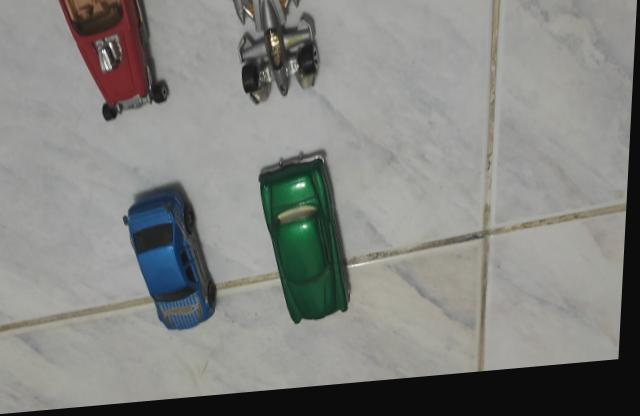03_V8: (57, 0, 171, 122)
04_MERZEDES: (125, 184, 223, 334)
05_DC121: (228, 0, 323, 108)
06_MASERATI: (258, 155, 355, 328)
